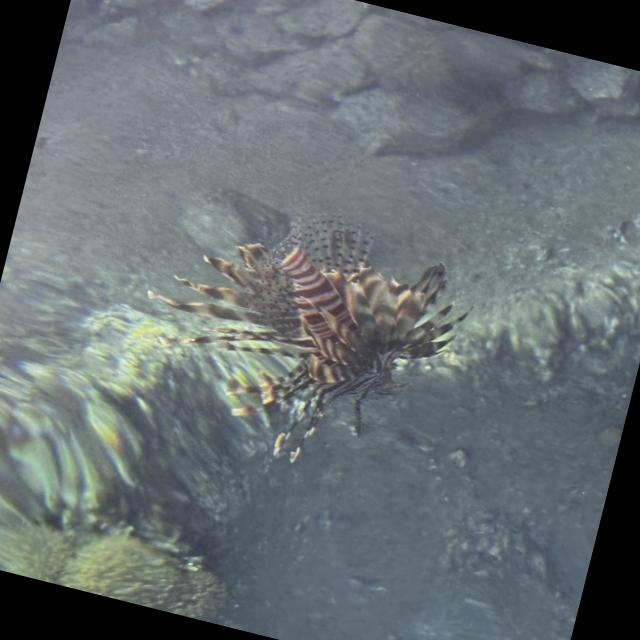Aslan Baligi: (114, 174, 488, 496)
